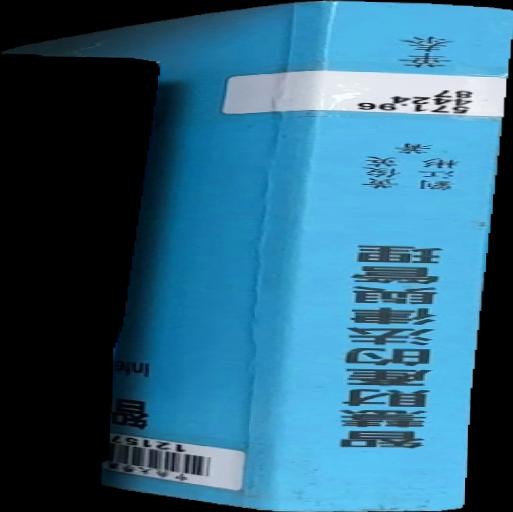reverse: (1, 1, 513, 512)
